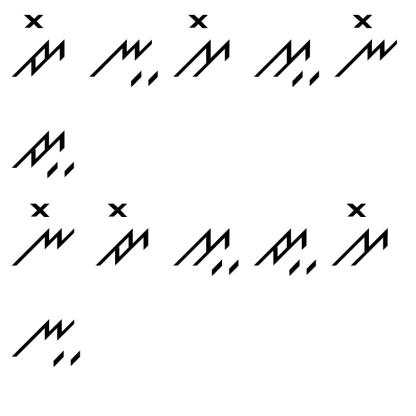jah: (8, 124, 79, 184), (250, 223, 322, 278)
jo: (4, 10, 70, 81), (91, 198, 153, 269)
nyah: (9, 304, 86, 373), (86, 30, 162, 89)
nyo: (11, 200, 78, 269), (336, 13, 400, 83)
sah: (172, 223, 240, 278), (254, 34, 321, 89)
so: (330, 196, 394, 271), (172, 10, 233, 79)
